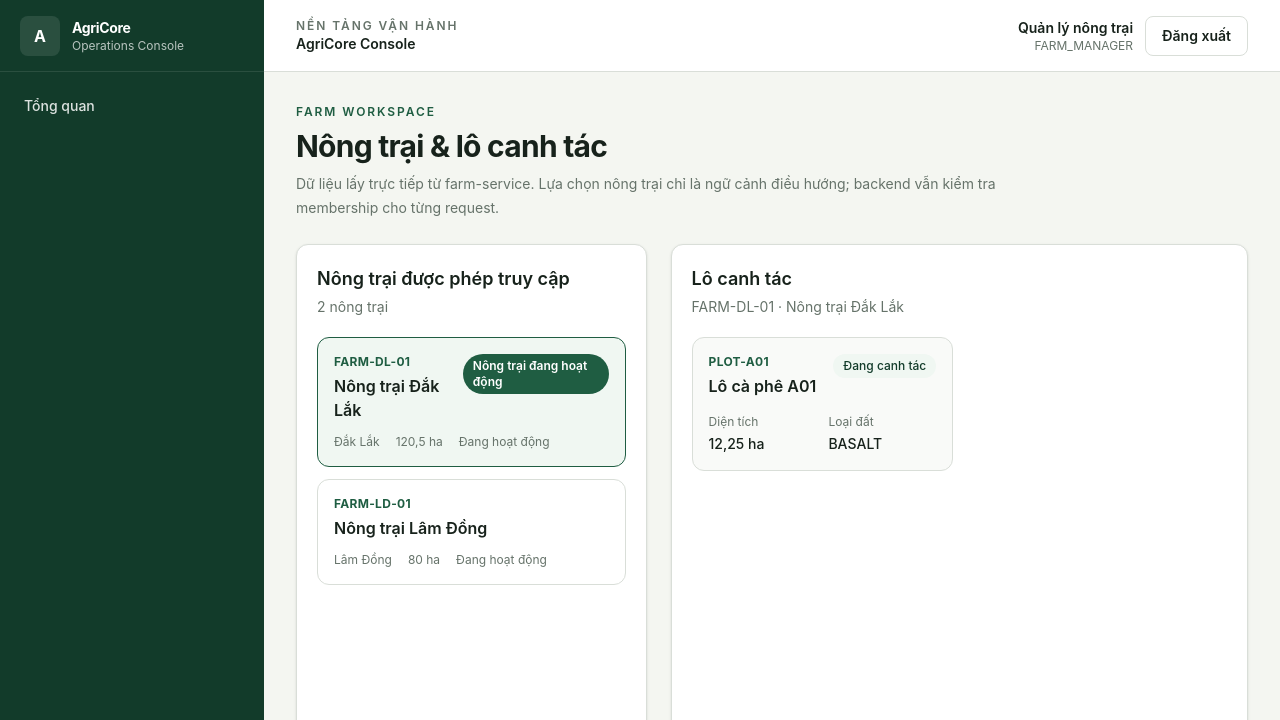
Test: Farms page › loads accessible farms and switches the active farm's real plots
Expected: the heading "Lô cà phê A01" is shown, [709,374,816,398]
Click the button "FARM-LD-01 Nông trại Lâm Đồng Lâm Đồng 80 ha Đang hoạt động" at [471, 532], box [317,479,626,585]
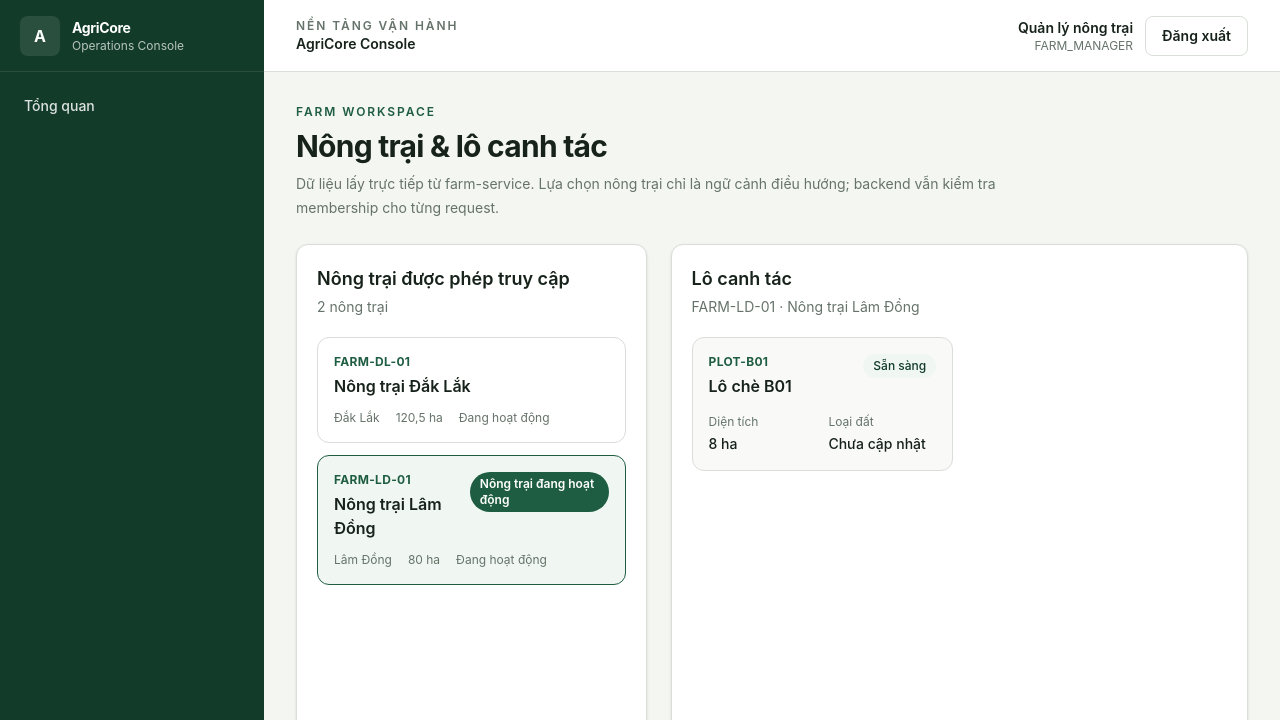
Expected: the text "Nông trại đang hoạt động" is shown, [470,472,609,512]
Now the heading "Lô chè B01" is shown, box [709,374,792,398]
